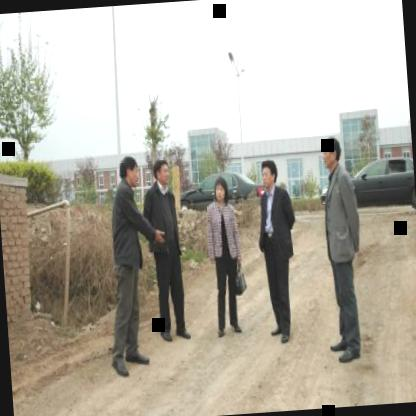head: (116, 154, 142, 191), (320, 131, 344, 171), (257, 159, 280, 195), (208, 172, 231, 206), (151, 156, 172, 187)
